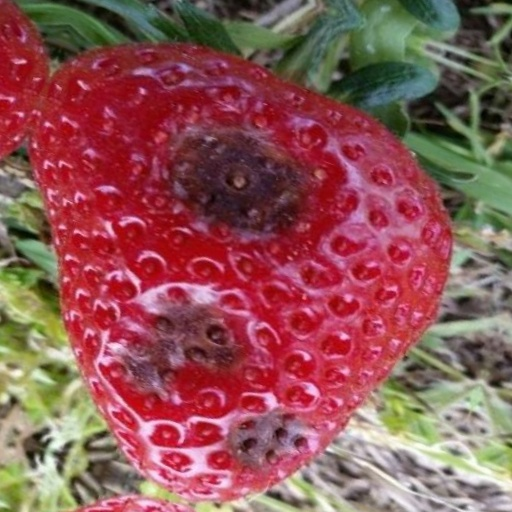Anthracnose Fruit Rot: (125, 131, 390, 470)
